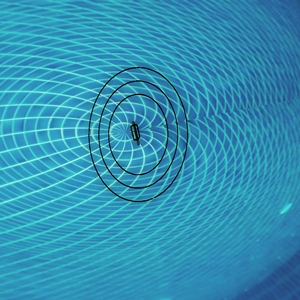submarine: (129, 120, 144, 143)
